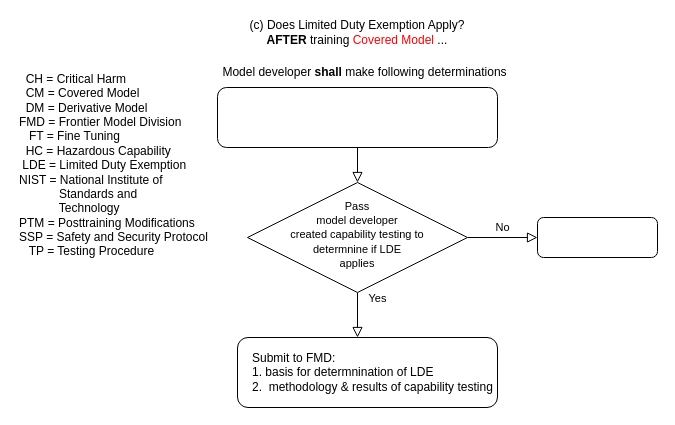
Image size: 675x425. Some labels were removed from this diagram. The shapes that lost their labels are listed below. From the top down, each one's box as (x1, y1, x2, y2) in pixels, then its label:
(216, 86, 498, 148): CM not subject to (pretraining) LDE under (a)
(536, 216, 658, 258): No LDE
